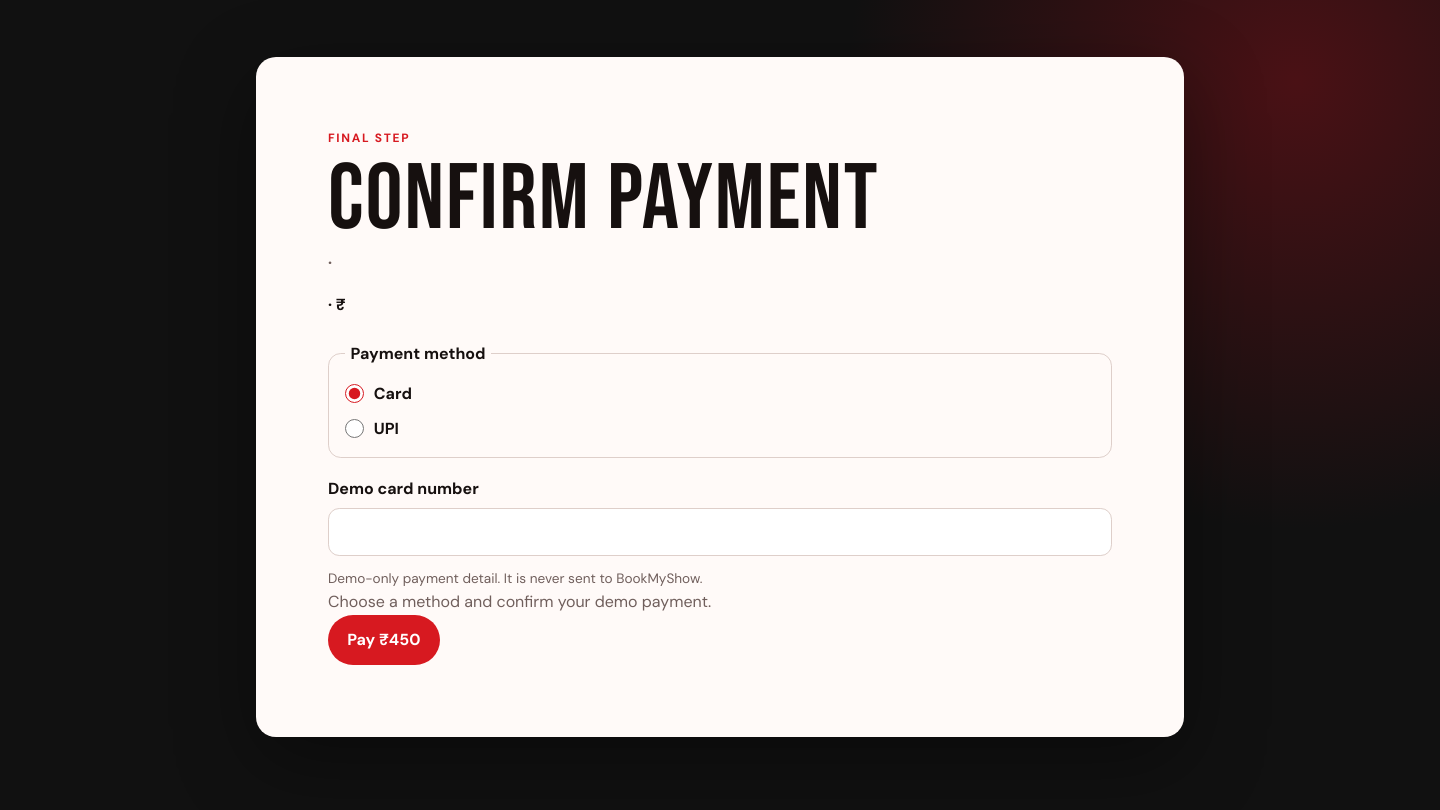
PaymentComponent › does not send a booking for an incomplete journey and announces what is needed
This screenshot has width=1440, height=810.
What coordinates should you click on to do the following:
click the button "Pay ₹450"
I would click on:
 (384, 640)
Its box is [328, 615, 440, 665].
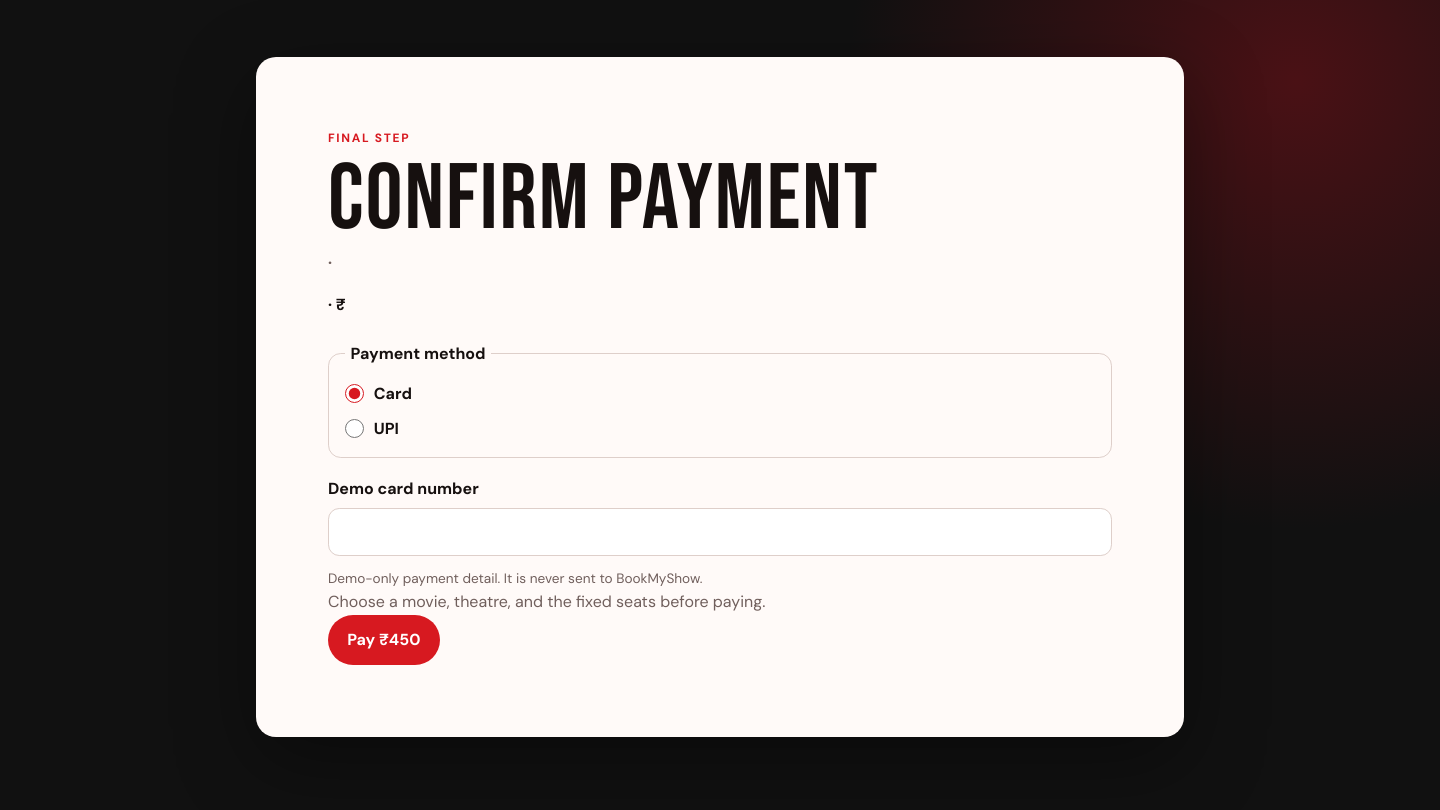
Result: the text "Choose a movie, theatre, and the fixed seats before paying." is shown at [328, 591, 765, 612]
